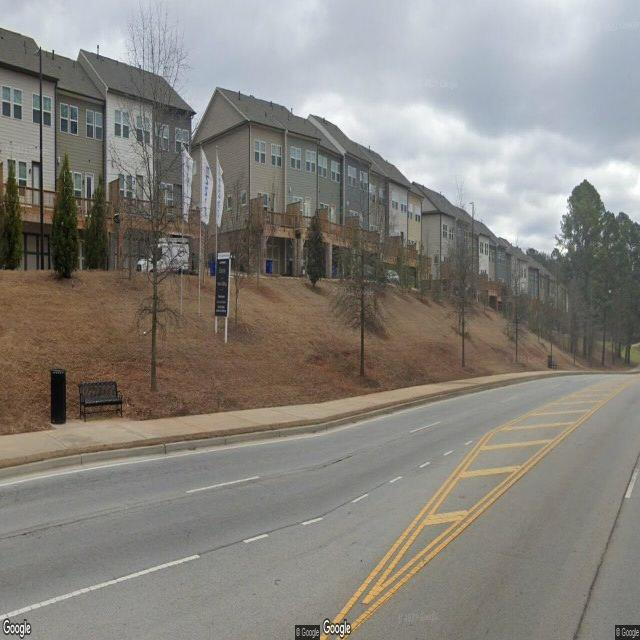seating: (78, 378, 122, 422)
trash_can: (50, 368, 66, 424)
